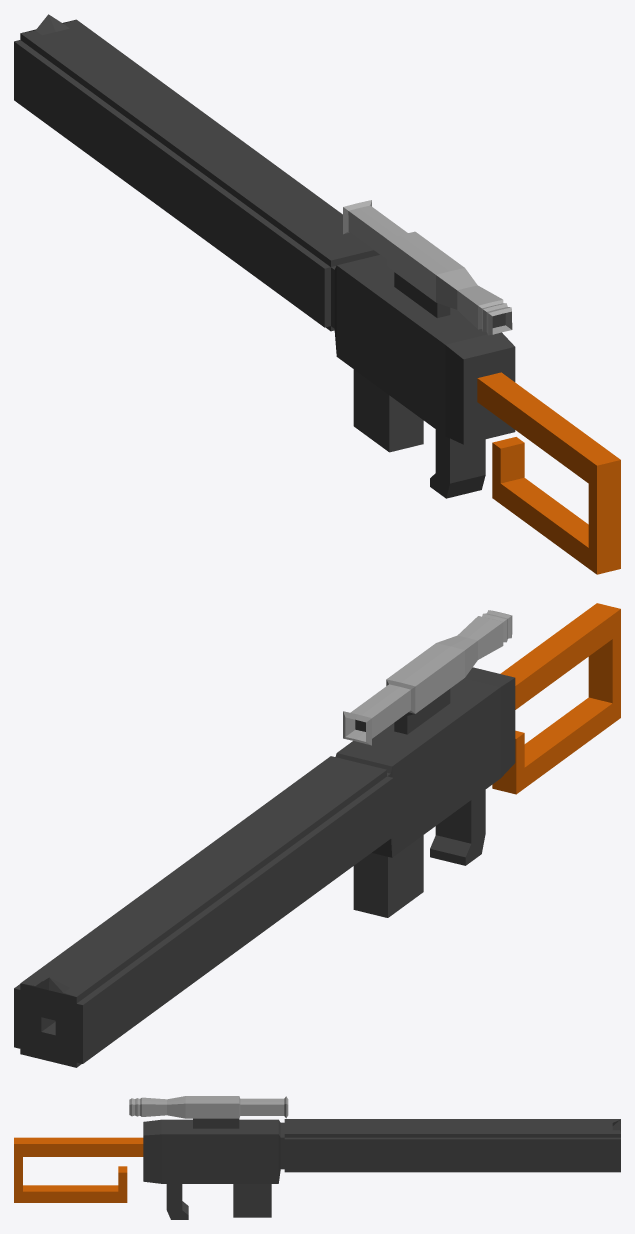
File: VSS-VINTOREZ.fbx
The picture shows the model from 3 angles, top to bottom: view 1: azimuth 30°, elevation 25°; view 2: azimuth 150°, elevation 25°; view 3: azimuth 270°, elevation 25°; orthographic projection. The views are drawn at different scales.
Visible parts, largest first — view 1: Cube; view 2: Cube; view 3: Cube.
Boxes of the visible parts, left/top/right/bottom form: Cube: left=14, top=14, right=620, bottom=574; Cube: left=14, top=603, right=620, bottom=1067; Cube: left=14, top=1096, right=620, bottom=1219.
Size of the model in its own units: 10.93 by 32.35 by 154.
